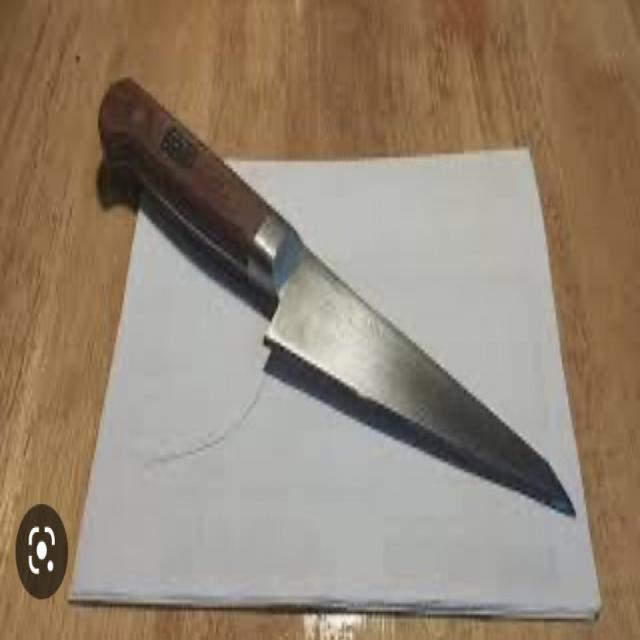Knife: (86, 45, 592, 551)
